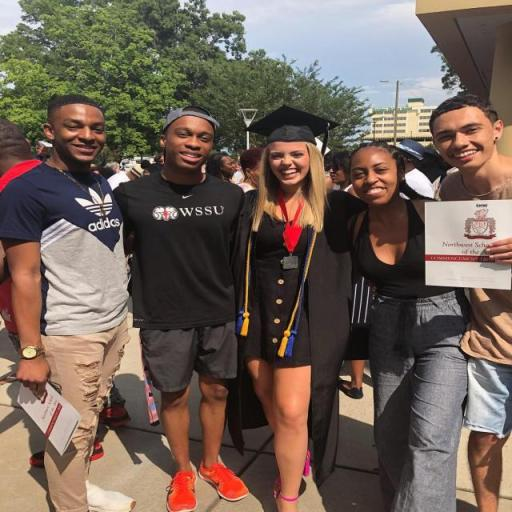Adidas: (71, 185, 120, 233)
